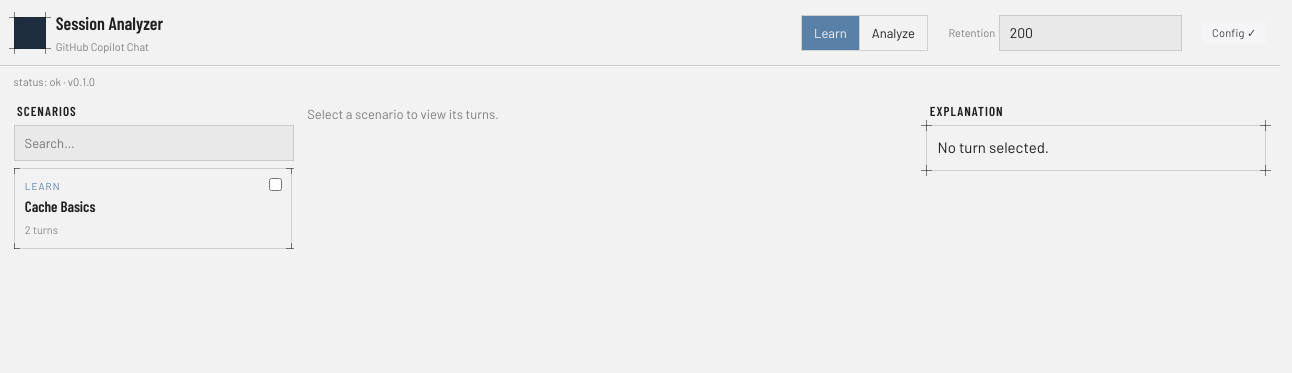
Test: App › lets the user pick a learn scenario and renders the shared layout
Click the button "Learn Cache Basics 2 turns". click: (43, 186)
box: [14,168,292,249]
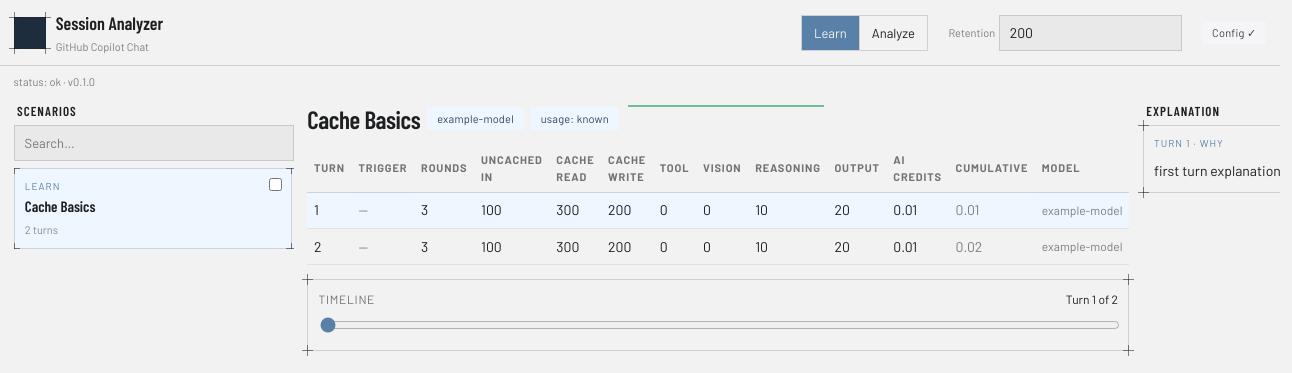
Now the text "first turn explanation" is shown, box [1154,162,1281,179]
Now the number of rows is 3, box [307,144,1129,192]; [307,192,1129,228]; [307,228,1129,265]
